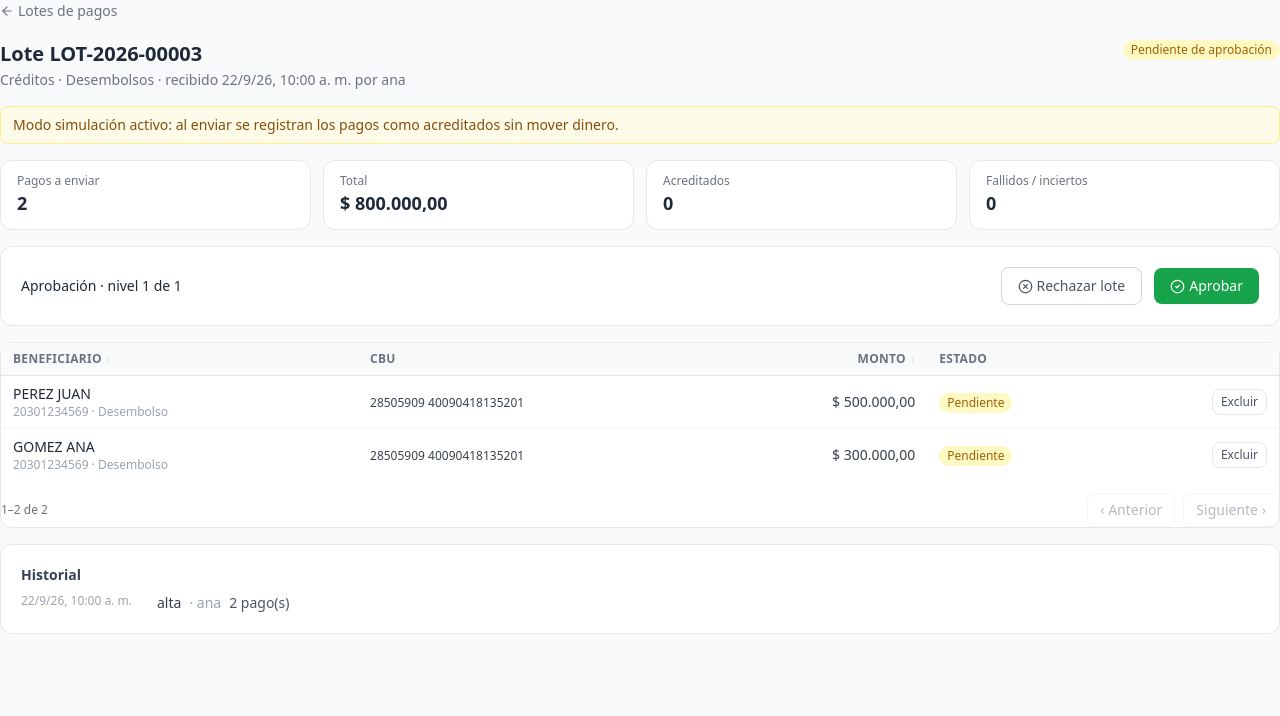
LotePage › aprobar con confirmación
Click the button "Aprobar".
click(1207, 286)  # box top-left (1154, 268), bottom-right (1259, 304)
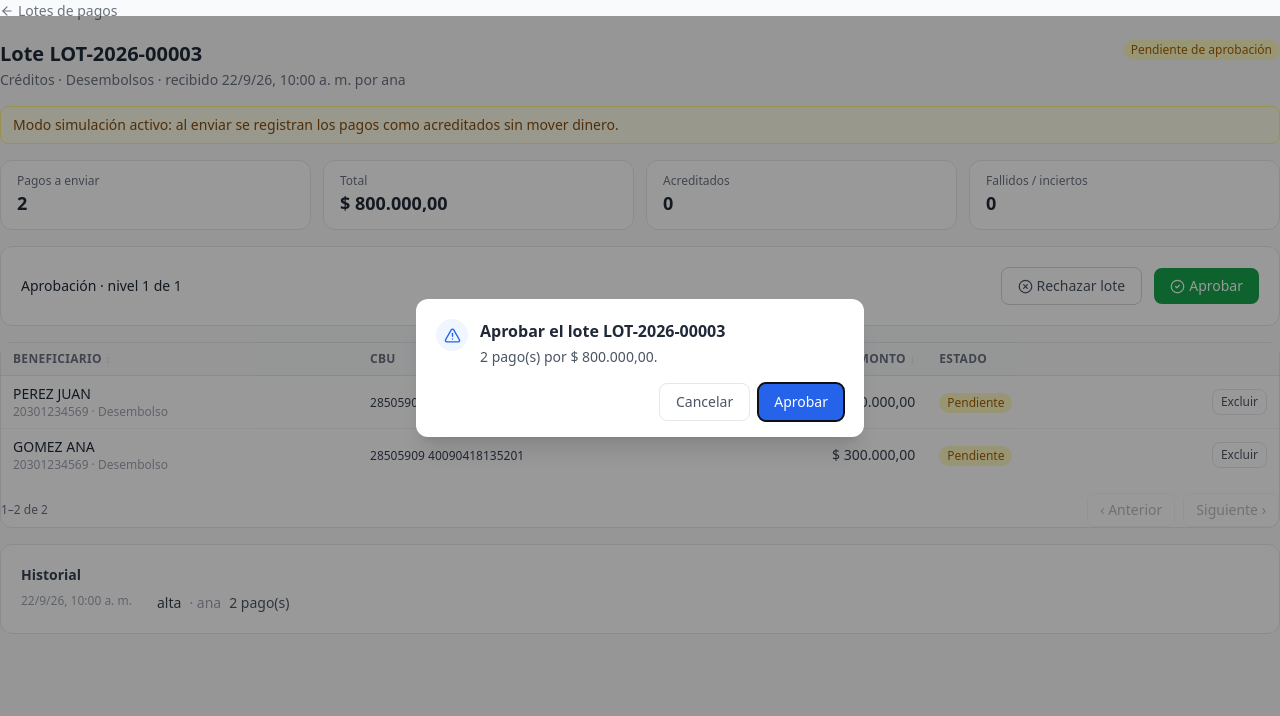
Click the button "Aprobar".
click(801, 402)  # box top-left (758, 383), bottom-right (844, 421)
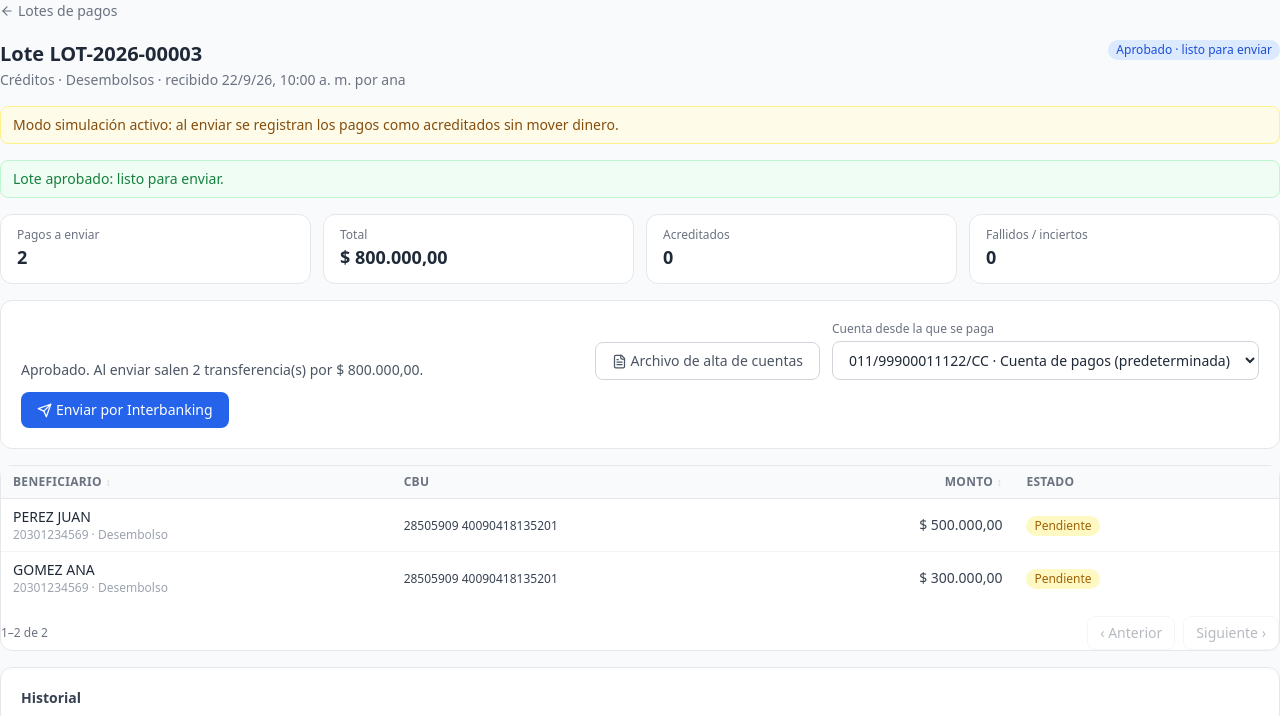
Check: the text "Lote aprobado: listo para enviar." is shown, box top-left (0, 160), bottom-right (1279, 198)
Check: the button "Enviar por Interbanking" is shown, box top-left (21, 392), bottom-right (228, 428)
